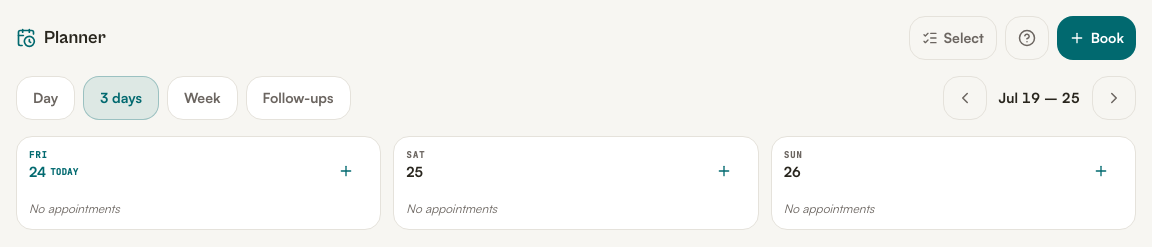
AgentPlannerPanel — week navigation on the DESKTOP board › columnStart: 3-day columns anchor to the VIEWED week's Sunday once navigated
Click the button with test id "planner-week-next" at point(1114, 98), box [1092, 76, 1136, 120]
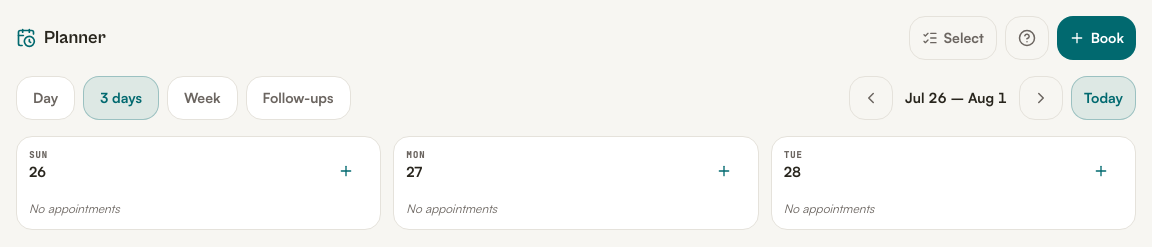
Expected: the element with test id "planner-day-col-2026-07-26" is shown, [16, 136, 381, 230]
Expected: the element with test id "planner-day-col-2026-07-27" is shown, [393, 136, 759, 230]
Expected: the element with test id "planner-day-col-2026-07-28" is shown, [771, 136, 1136, 230]
